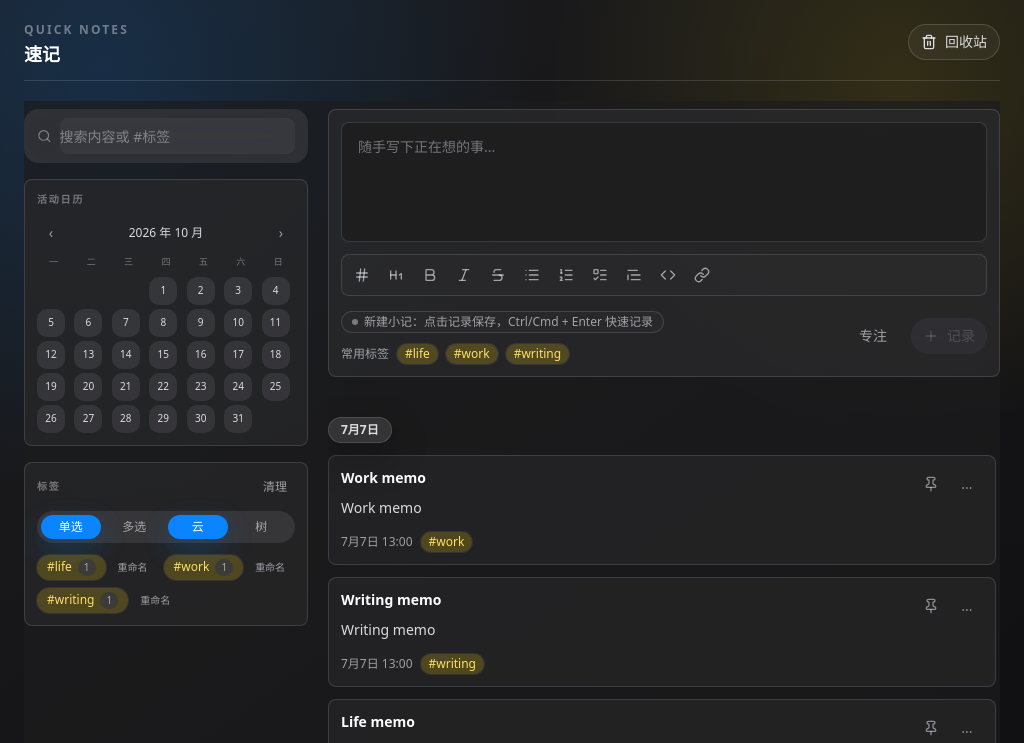
Test: QuickNotesView › shows filtered hash tag autocomplete suggestions while typing
Step 1. Type "ship #w" into the text box named "小记内容" → {"x": 664, "y": 182}, box [341,122,987,242]
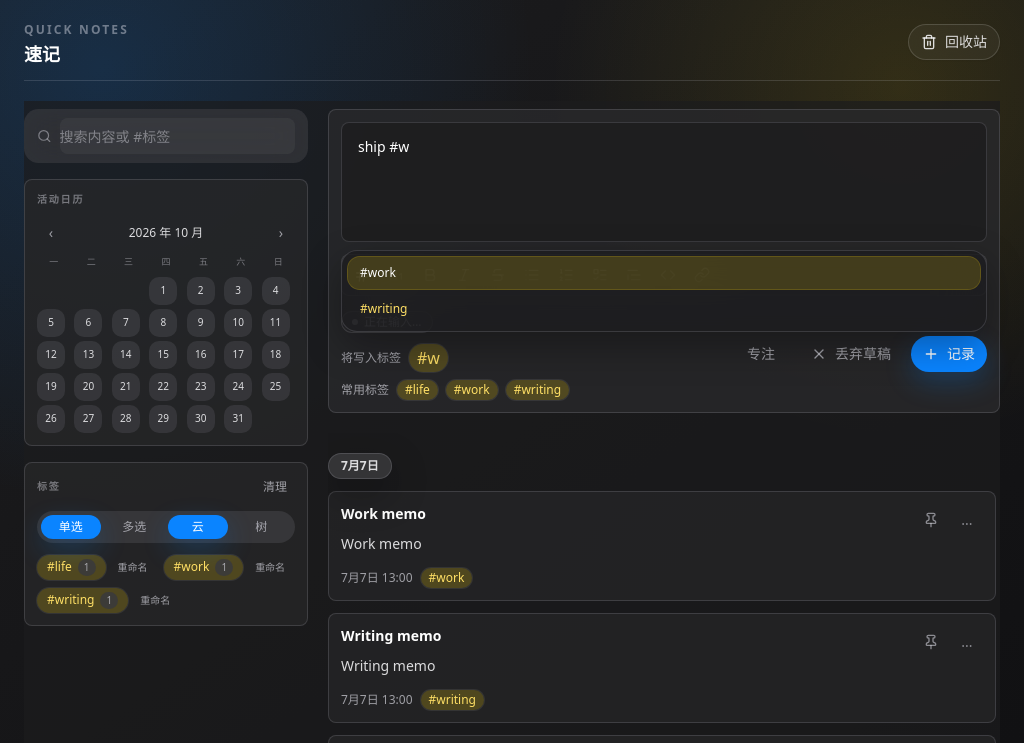
Check: the list named "标签补全" is shown, box [341,250,987,332]
Check: the option "#writing" is shown, box [348,293,980,325]
